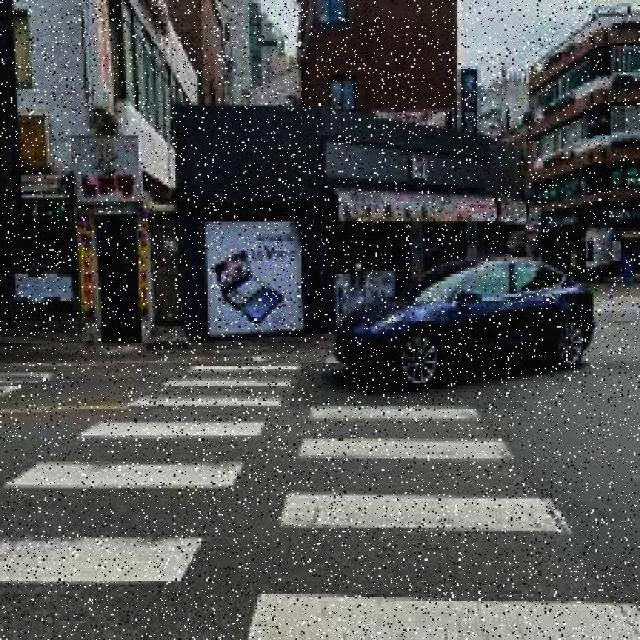crosswalk: (0, 359, 638, 638)
